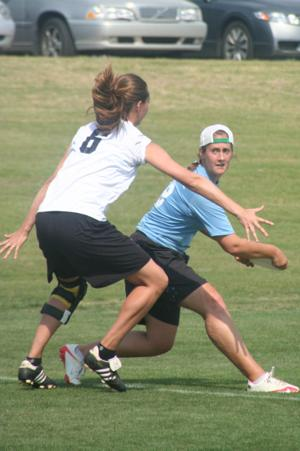person: (59, 122, 299, 396)
